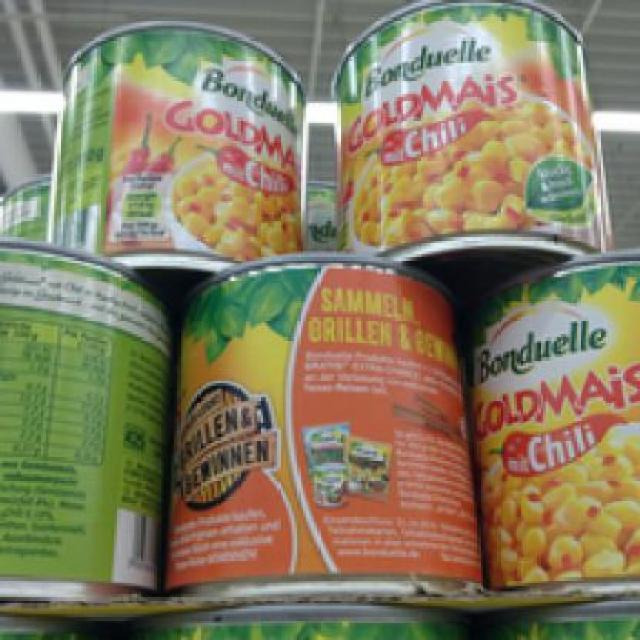Corn: (168, 246, 483, 594), (320, 0, 606, 260), (51, 16, 306, 272), (0, 231, 169, 600), (468, 246, 638, 574)
